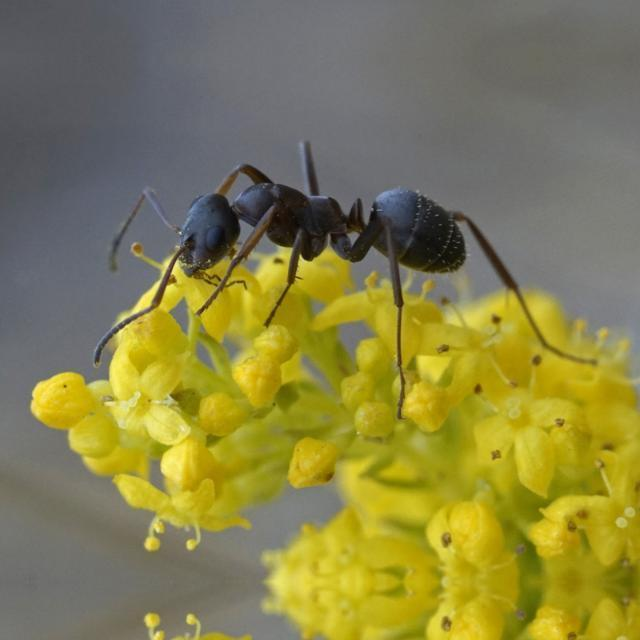Formica: (126, 134, 516, 352)
